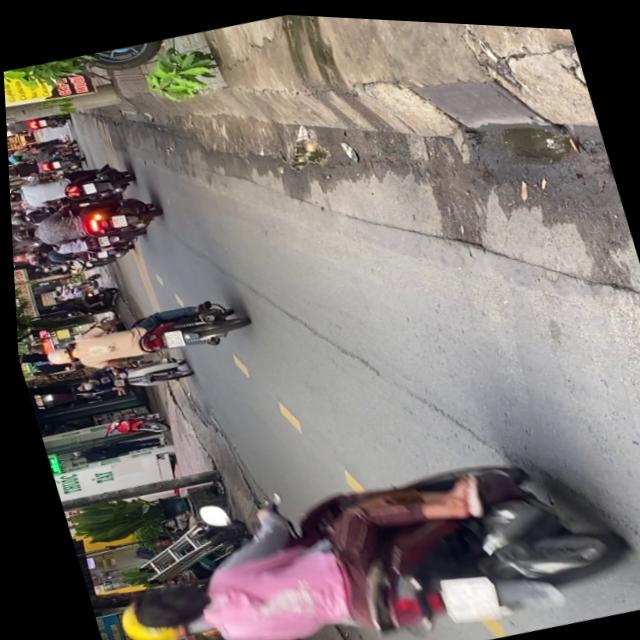helmet: (110, 588, 205, 640), (40, 342, 74, 367), (9, 224, 35, 245), (8, 188, 19, 204)
licenseplate: (81, 403, 638, 640), (31, 281, 251, 388), (7, 180, 163, 260), (6, 153, 134, 220), (61, 344, 191, 408)
motorcyclist: (117, 570, 213, 639), (64, 375, 93, 395)
nohelmet: (431, 563, 495, 623), (159, 326, 180, 347), (107, 212, 124, 227), (80, 180, 94, 194)
